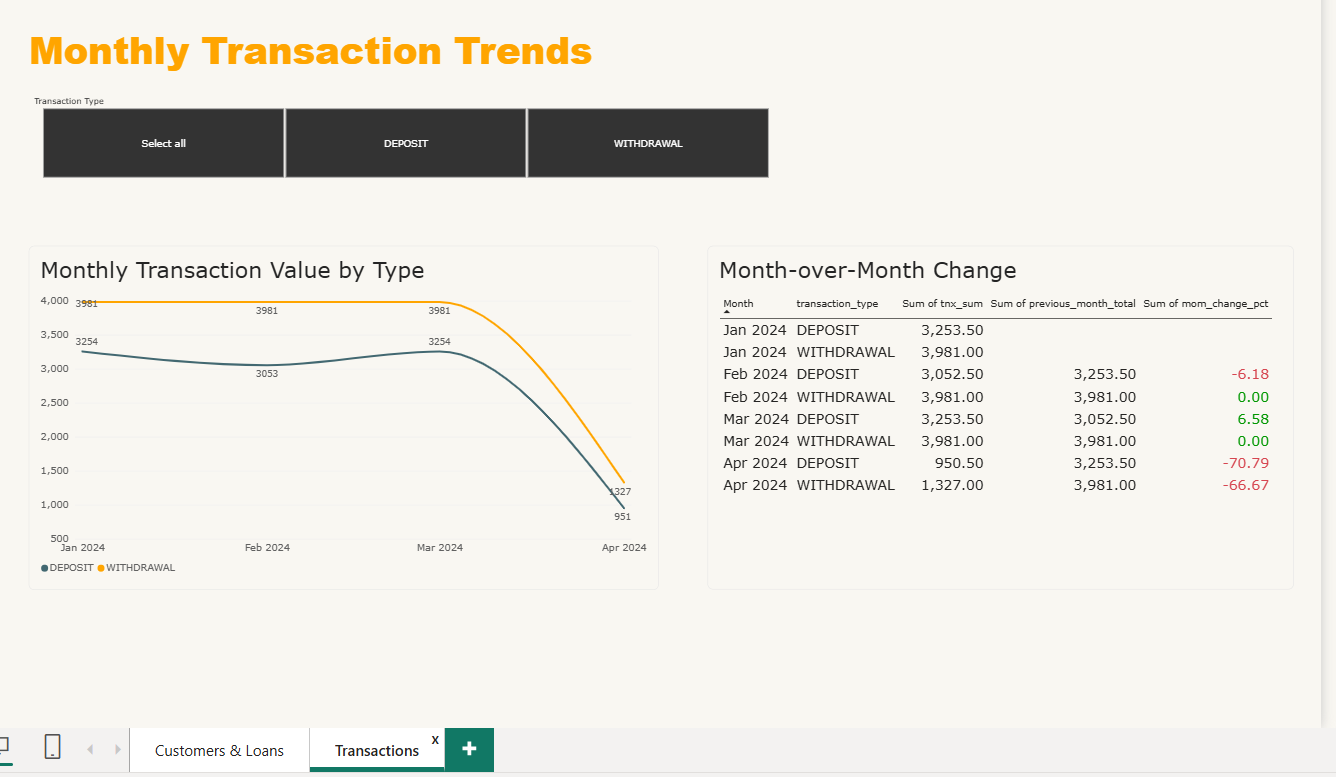

The page's visual inventory and layout, read from the dashboard file:
{"tool":"powerbi","page":{"name":"Transactions","canvas":[1920,1080],"ordinal":1},"visuals":[{"type":"lineChart","title":"Monthly Transaction Value by Type","fields":{"Category":["mart_monthly_transactions.Month"],"Series":["mart_monthly_transactions.transaction_type"],"Y":["Sum(mart_monthly_transactions.tnx_sum)"]},"box":[48,382,912,498],"z":0},{"type":"tableEx","title":"Month-over-Month Change","fields":{"Values":["mart_monthly_transactions.Month","mart_monthly_transactions.transaction_type","Sum(mart_monthly_transactions.tnx_sum)","Sum(mart_monthly_transactions.previous_month_total)","Sum(mart_monthly_transactions.mom_change_pct)"]},"box":[1031.5,381.8,848.7,497.7],"z":1000},{"type":"slicer","title":"Transaction Type","fields":{"Values":["mart_monthly_transactions.transaction_type"]},"box":[48,164,1090,120],"z":2000},{"type":"textbox","box":[48,60,982,146],"z":3000}]}

Visuals, with their boxes on the page's 1920x1080 design canvas (x1, y1, x2, y2). These are canvas units, not pixel positions in the 1336x777 screenshot, which may show the page scaled, cropped or inside an application window:
"Monthly Transaction Value by Type" lineChart: select_region(48, 382, 960, 880)
"Month-over-Month Change" tableEx: select_region(1032, 382, 1880, 880)
"Transaction Type" slicer: select_region(48, 164, 1138, 284)
textbox: select_region(48, 60, 1030, 206)
